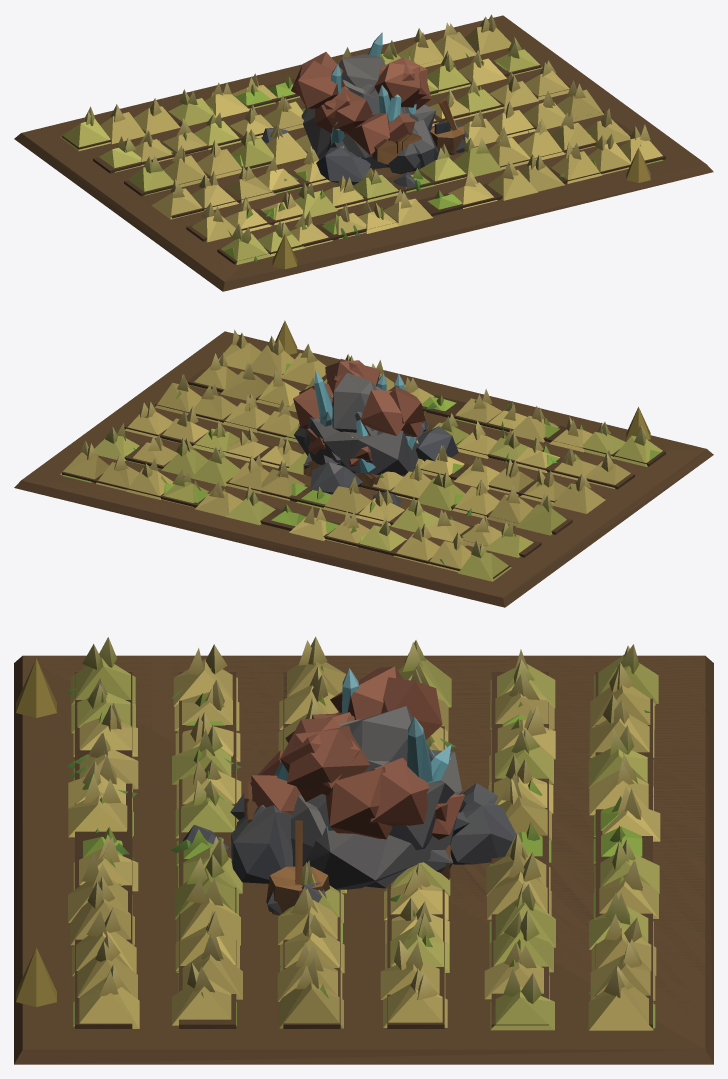
File: env_kit_spares.fbx
The picture shows the model from 3 angles, top to bottom: view 1: azimuth 30°, elevation 25°; view 2: azimuth 150°, elevation 25°; view 3: azimuth 270°, elevation 25°; orthographic projection. The views are drawn at different scales.
Parts seen in each view (by area): view 1: farm_field_wheat_03, farm_field_wheat_04, farm_field_wheat_05, resource_ore_02, resource_ore_01, resource_ore_06, resource_ore_05, resource_wood_02, resource_wood_01; view 2: farm_field_wheat_03, farm_field_wheat_04, resource_ore_02, resource_ore_06, farm_field_wheat_05, resource_ore_01, resource_ore_05; view 3: farm_field_wheat_03, farm_field_wheat_04, farm_field_wheat_05, resource_ore_01, resource_ore_02, resource_ore_06, resource_ore_05, resource_wood_01, resource_wood_02.
Boxes of the visible parts, x1,y1,x2,y2 form: farm_field_wheat_03: [14, 14, 713, 291]; farm_field_wheat_04: [16, 19, 710, 289]; farm_field_wheat_05: [52, 17, 711, 259]; resource_ore_02: [291, 52, 466, 174]; resource_ore_01: [293, 57, 468, 168]; resource_ore_06: [303, 64, 436, 187]; resource_ore_05: [262, 32, 418, 158]; resource_wood_02: [372, 100, 463, 164]; resource_wood_01: [385, 98, 465, 155]; farm_field_wheat_03: [14, 320, 711, 607]; farm_field_wheat_04: [14, 340, 713, 595]; resource_ore_02: [299, 359, 424, 466]; resource_ore_06: [294, 373, 458, 475]; farm_field_wheat_05: [25, 363, 660, 572]; resource_ore_01: [293, 360, 425, 476]; resource_ore_05: [304, 370, 424, 505]; farm_field_wheat_03: [14, 636, 713, 1064]; farm_field_wheat_04: [14, 655, 701, 1063]; farm_field_wheat_05: [57, 655, 713, 1040]; resource_ore_01: [231, 666, 469, 905]; resource_ore_02: [236, 677, 466, 914]; resource_ore_06: [183, 668, 462, 889]; resource_ore_05: [291, 716, 516, 888]; resource_wood_01: [248, 781, 450, 915]; resource_wood_02: [244, 780, 450, 891].
Bounding box in the file's own units: 38 × 8.19 × 28.
